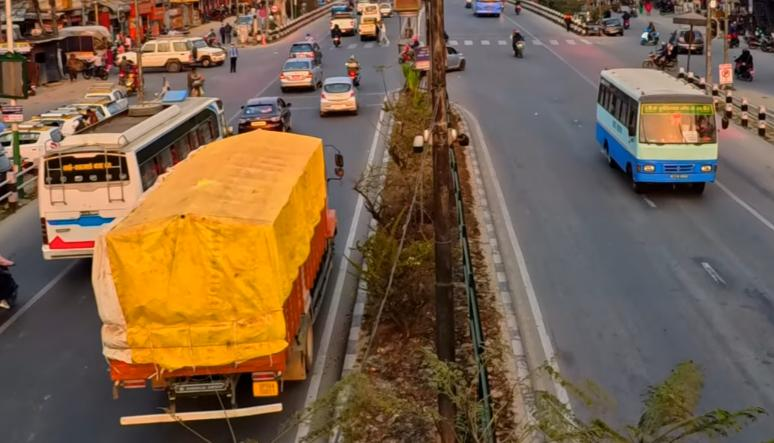bus: (32, 91, 239, 266), (591, 62, 721, 200)
